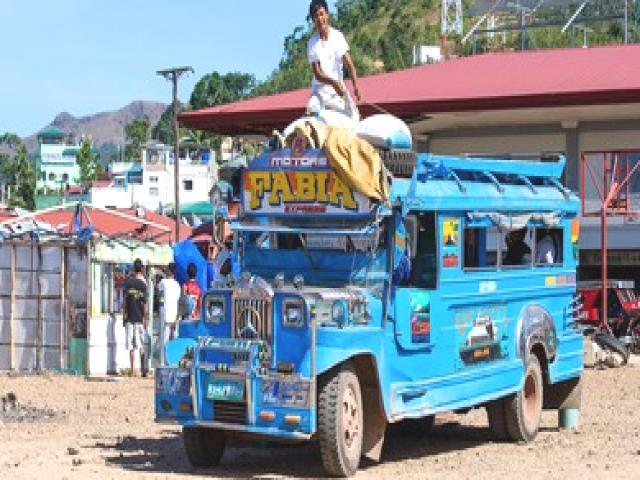jeepney: (154, 130, 584, 475)
